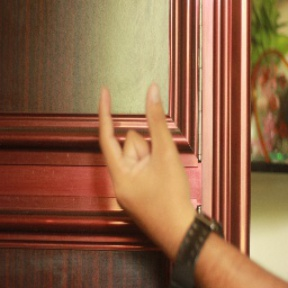U: (91, 77, 187, 221)
